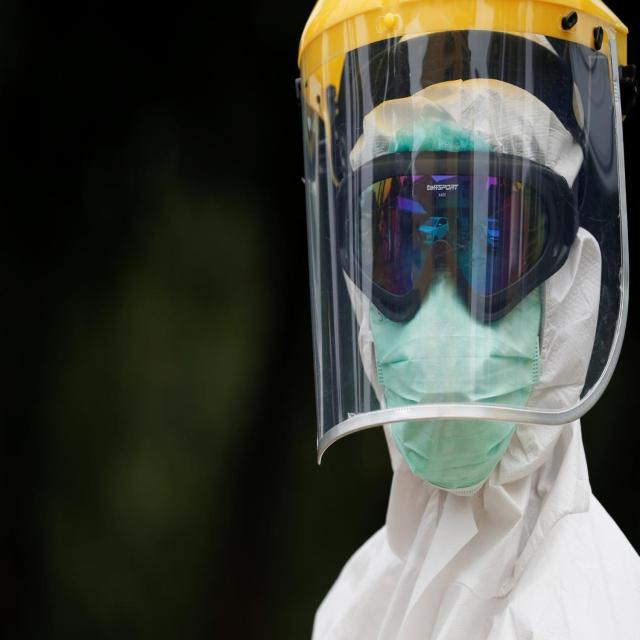Goggles: (329, 152, 578, 323)
Mask: (372, 272, 542, 482)
